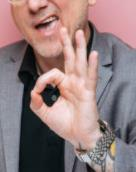left: (30, 25, 99, 142)
